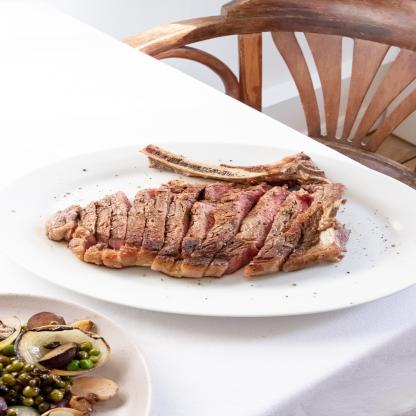Carne: (203, 183, 288, 273), (175, 180, 256, 272), (250, 179, 322, 278), (298, 184, 355, 267), (163, 178, 186, 277), (123, 187, 150, 266), (89, 187, 115, 268), (109, 184, 134, 266), (36, 201, 82, 241), (75, 199, 95, 256)
